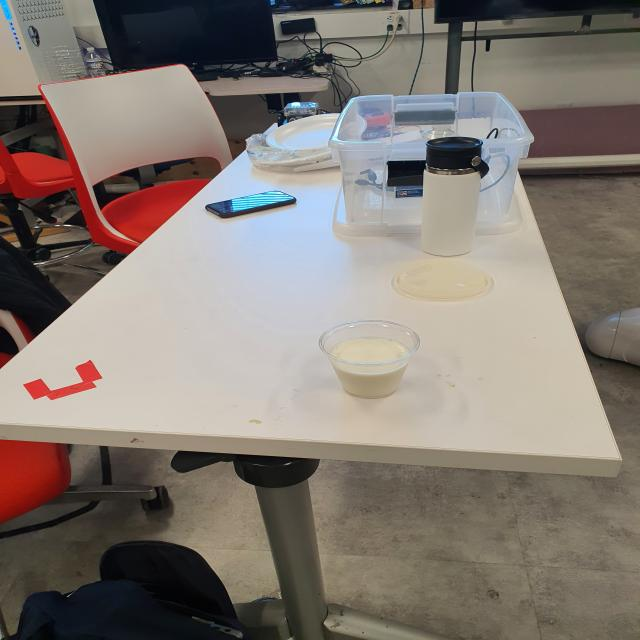Milk: (311, 315, 443, 403)
